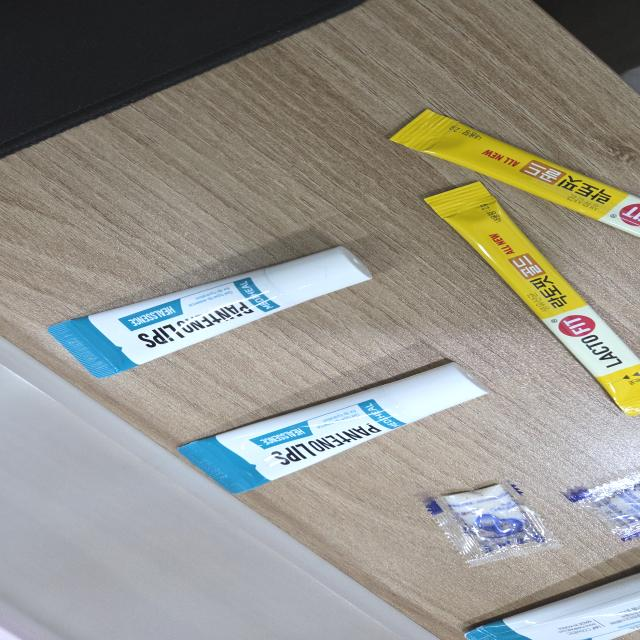lacto: (421, 178, 640, 418), (385, 106, 640, 240)
lib: (24, 243, 378, 380), (168, 358, 514, 496), (461, 573, 638, 639)
salt: (416, 477, 564, 567), (566, 462, 638, 544)
